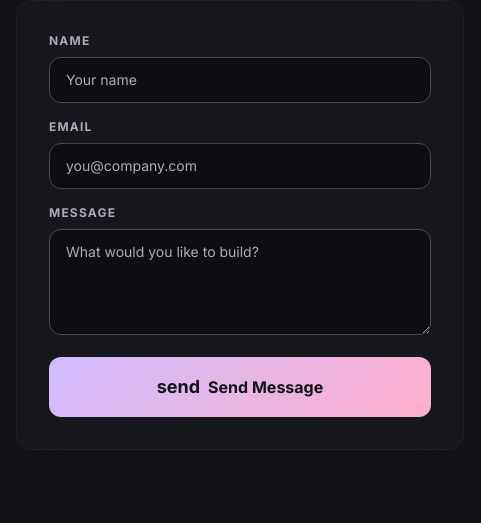
Test: Contact › shows an error on a non-2xx response (no success)
In the field labelled "Name": (240, 80) left=49, top=57, right=431, bottom=103, type "Jane Smith"
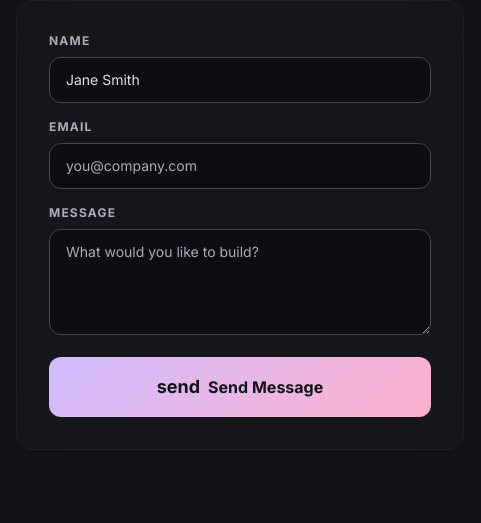
In the field labelled "Email": (240, 166) left=49, top=143, right=431, bottom=189, type "jane@company.com"
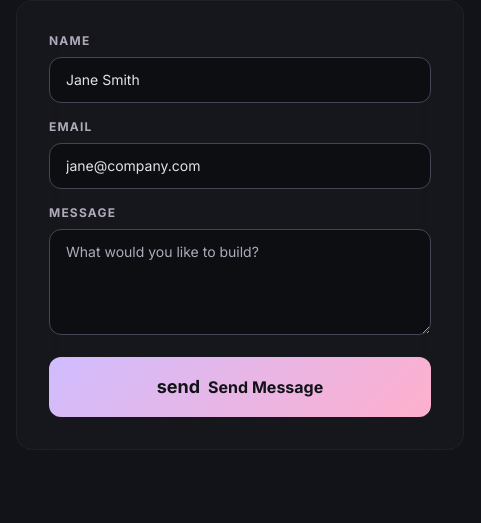
In the text box labelled "Message": (240, 282) left=49, top=229, right=431, bottom=335, type "Let's build something."
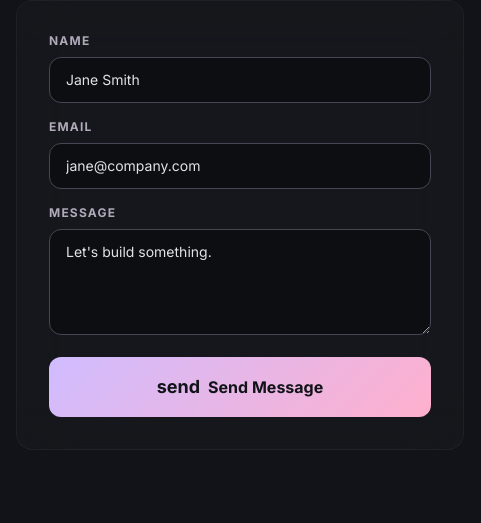
Click the button "send Send Message": (240, 387) left=49, top=357, right=431, bottom=417
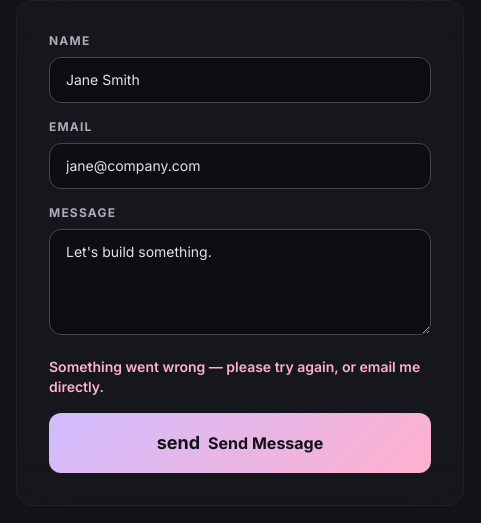
Result: the text "Something went wrong" is shown at left=49, top=358, right=420, bottom=395
